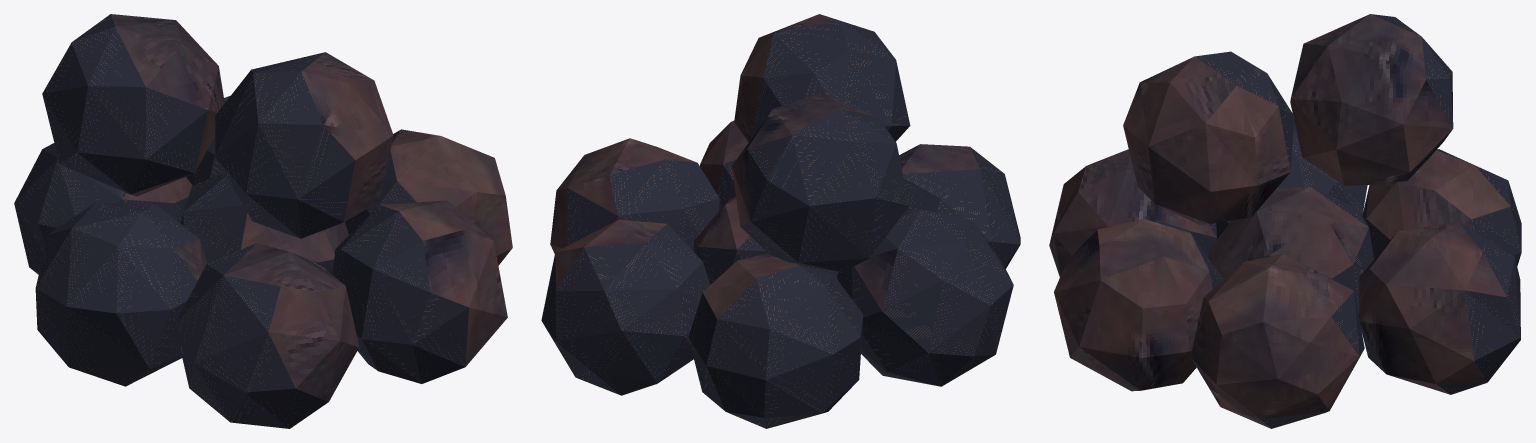
Rendered from cannonballs.glb.
The picture shows the model from 3 angles, left to right: view 1: azimuth 30°, elevation 25°; view 2: azimuth 150°, elevation 25°; view 3: azimuth 270°, elevation 25°; orthographic projection. The views are drawn at different scales.
Visible parts, largest first — view 1: Y437_CANNON; view 2: Y437_CANNON; view 3: Y437_CANNON.
Boxes of the visible parts, box(x1,y1,x2,y2) form: Y437_CANNON: box(14, 14, 512, 428); Y437_CANNON: box(541, 14, 1020, 428); Y437_CANNON: box(1049, 14, 1521, 428).
Bounding box in the file's own units: 21.98 × 14.11 × 20.81.
1 material, 1 textured.
